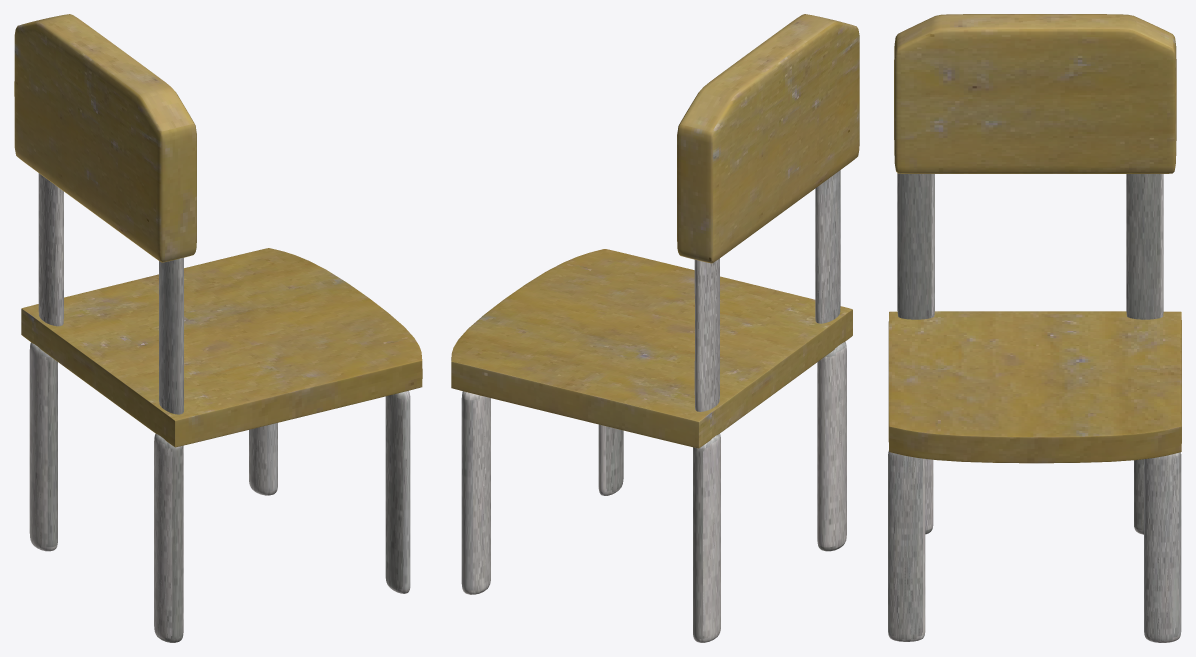
File: Chair2.fbx
3 renders of one model, left to right at view 1: azimuth 30°, elevation 25°; view 2: azimuth 150°, elevation 25°; view 3: azimuth 270°, elevation 25°, orthographic. The views are drawn at different scales.
Visible parts, largest first — view 1: polySurface2, polySurface4, pCylinder10, pCylinder11, pCylinder4, pCylinder9, pCylinder15, pCylinder12; view 2: polySurface2, polySurface4, pCylinder10, pCylinder12, pCylinder11, pCylinder15, pCylinder9, pCylinder4; view 3: polySurface4, polySurface2, pCylinder12, pCylinder4, pCylinder9, pCylinder15, pCylinder11, pCylinder10.
Part boxes in pixels (x1,y1,x2,y2): polySurface2: (21, 248, 422, 447); polySurface4: (14, 14, 196, 262); pCylinder10: (154, 434, 183, 642); pCylinder11: (29, 342, 57, 551); pCylinder4: (385, 390, 410, 593); pCylinder9: (159, 258, 183, 414); pCylinder15: (38, 173, 63, 326); pCylinder12: (249, 423, 277, 495); polySurface2: (451, 249, 852, 448); polySurface4: (677, 14, 859, 263); pCylinder10: (817, 342, 846, 551); pCylinder12: (461, 391, 490, 594); pCylinder11: (693, 434, 720, 642); pCylinder15: (694, 258, 719, 411); pCylinder9: (815, 170, 840, 323); pCylinder4: (598, 424, 623, 495); polySurface4: (894, 14, 1176, 173); polySurface2: (888, 311, 1181, 463); pCylinder12: (1144, 452, 1181, 642); pCylinder4: (888, 451, 925, 641); pCylinder9: (897, 173, 934, 319); pCylinder15: (1126, 174, 1163, 319); pCylinder11: (1134, 459, 1143, 534); pCylinder10: (925, 459, 933, 534).
Size of the model in its own units: 6.32 by 11.54 by 5.97.
2 materials, 2 textured.
